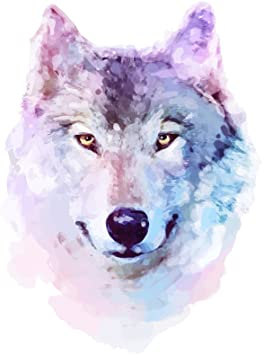Lobo: (15, 10, 237, 287)
